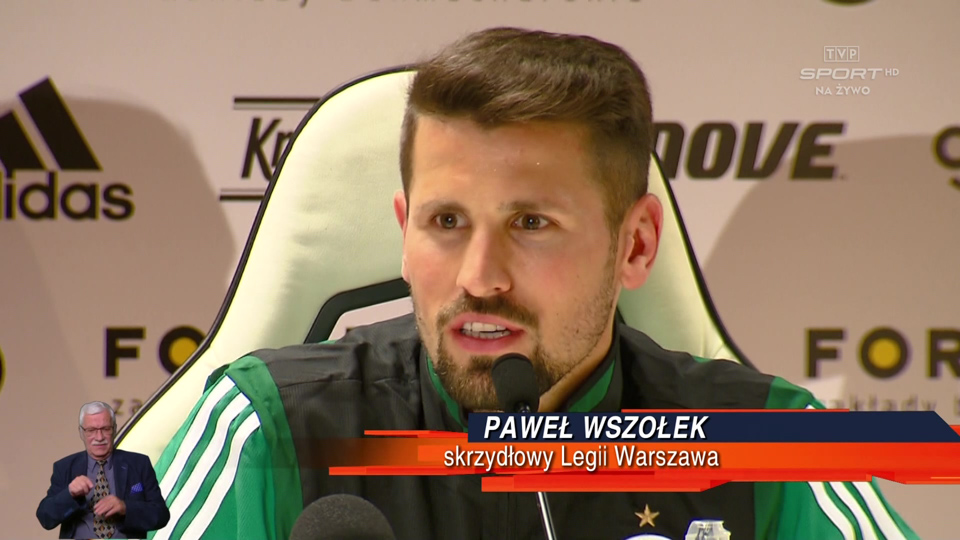Adidas: (1, 73, 137, 222)
